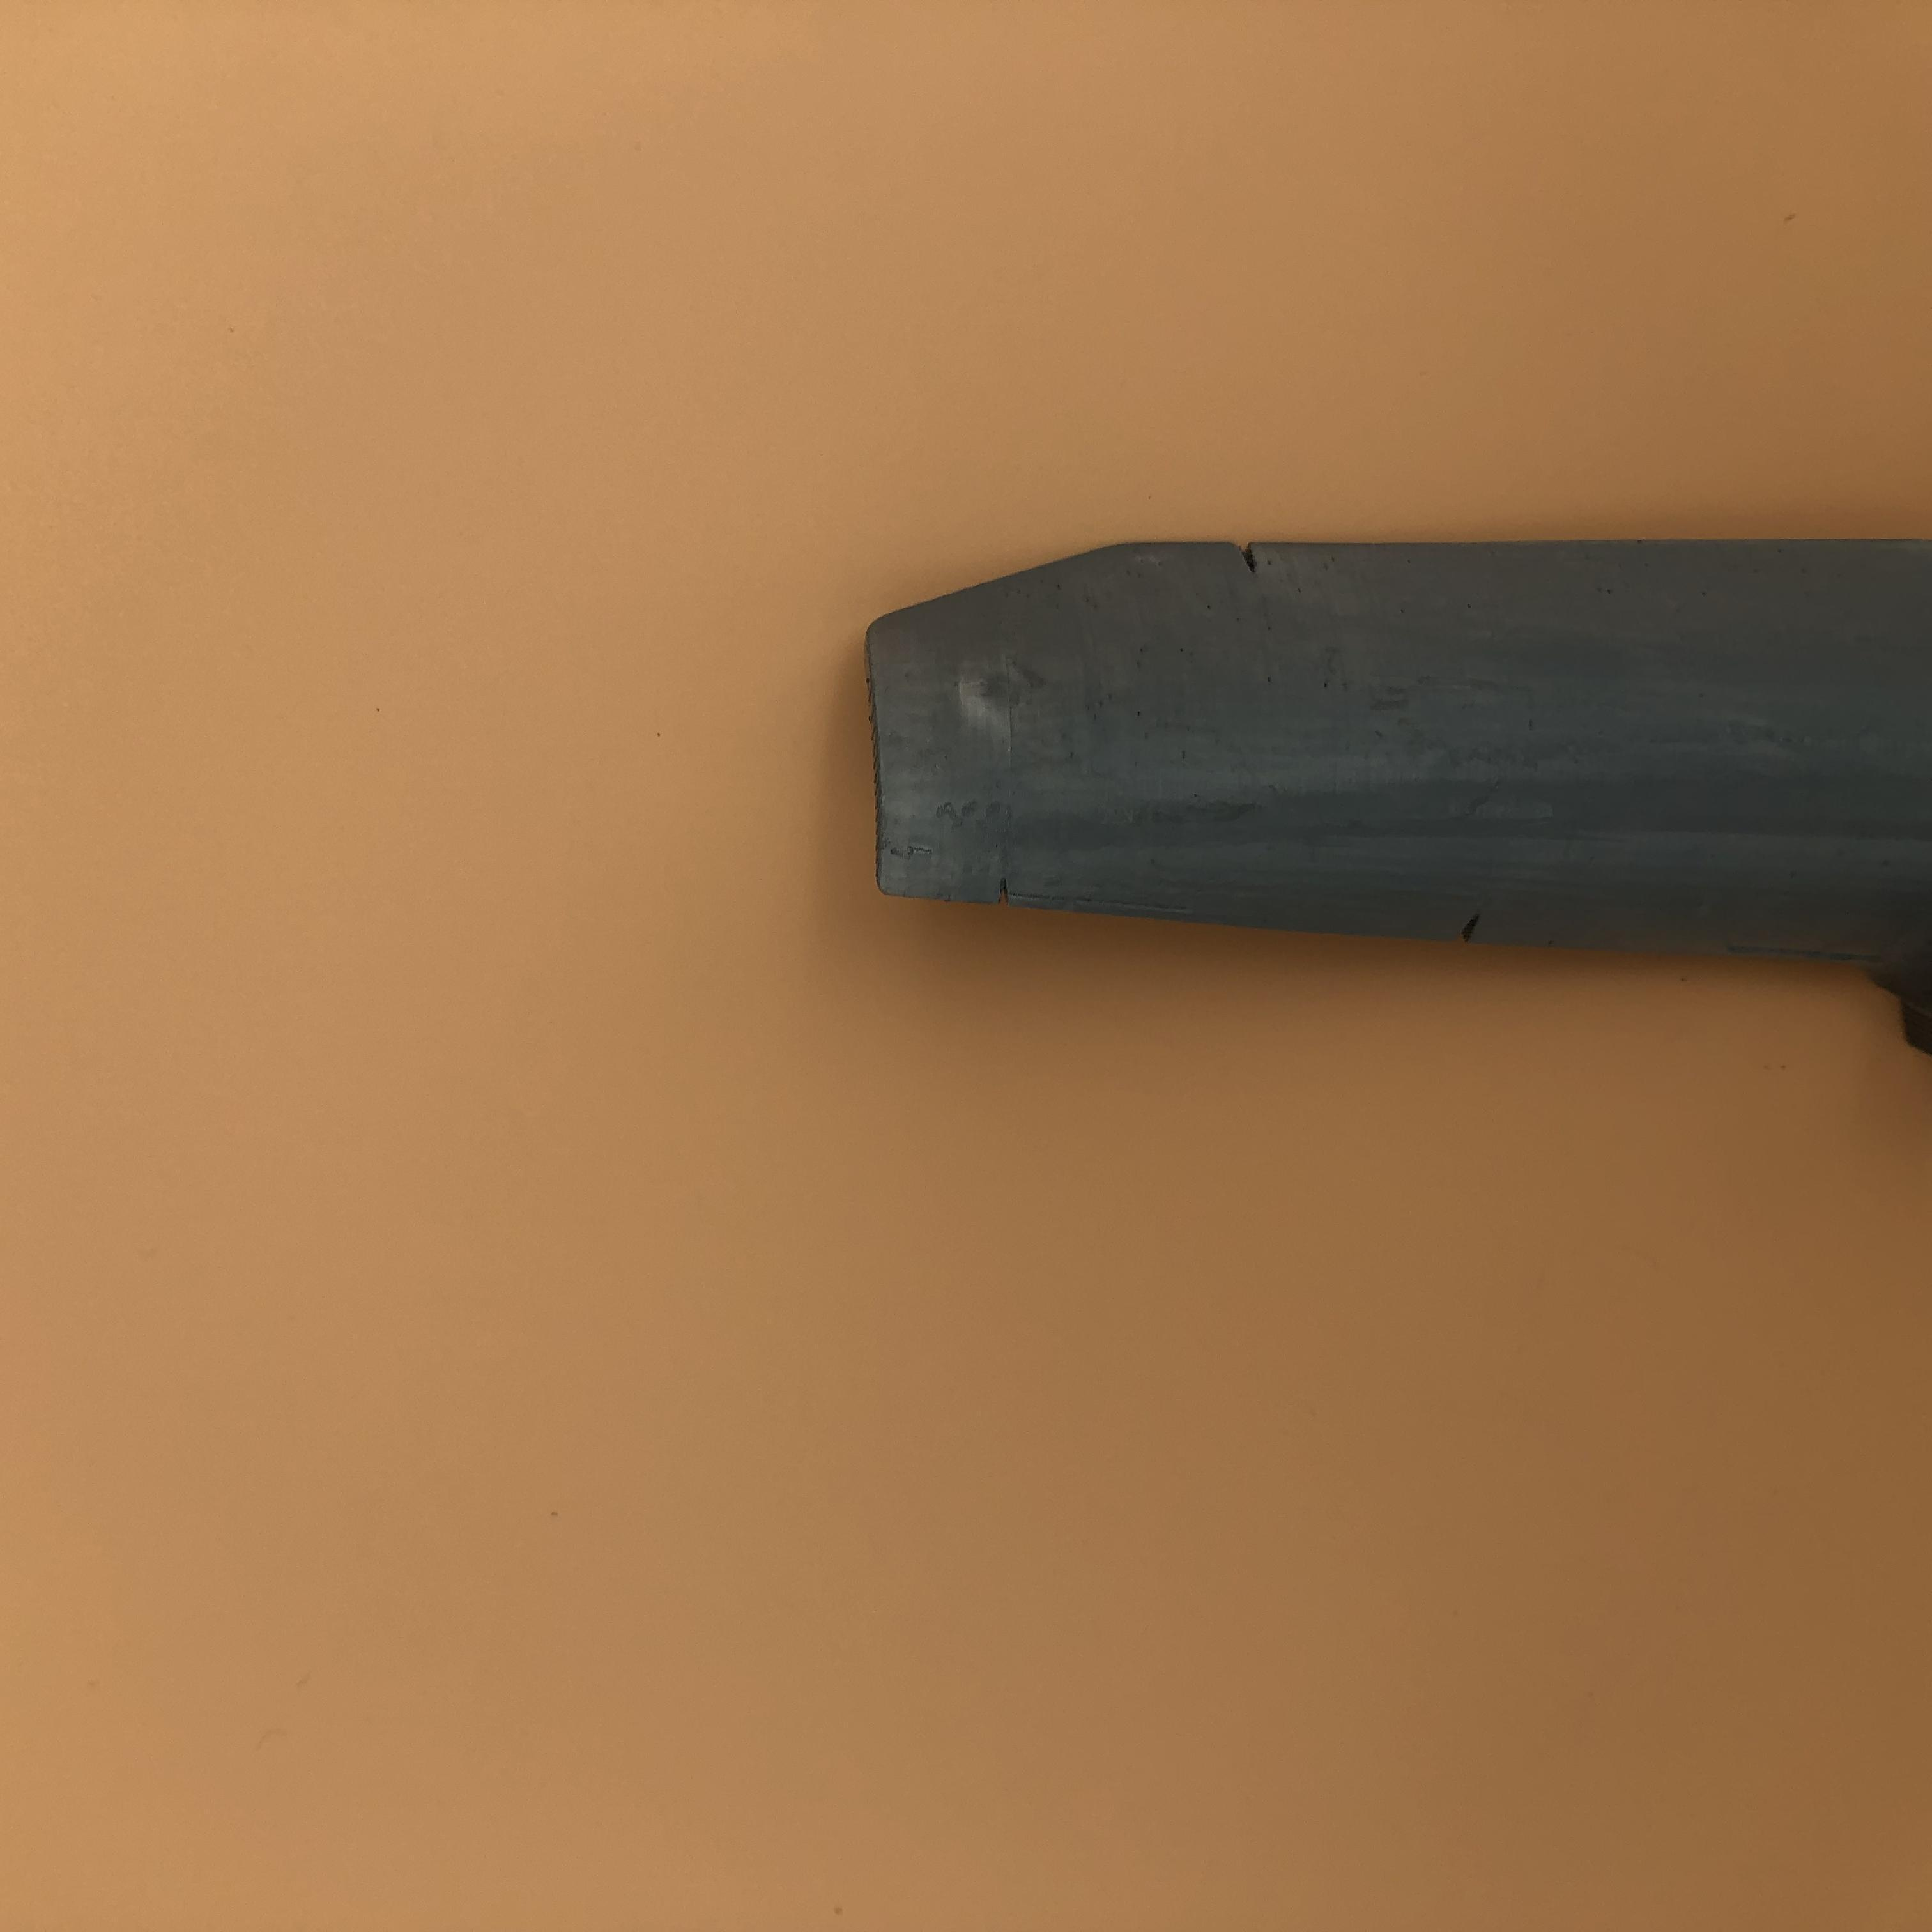groove: (1235, 533, 1290, 573), (1447, 908, 1495, 948), (993, 874, 1023, 895)
